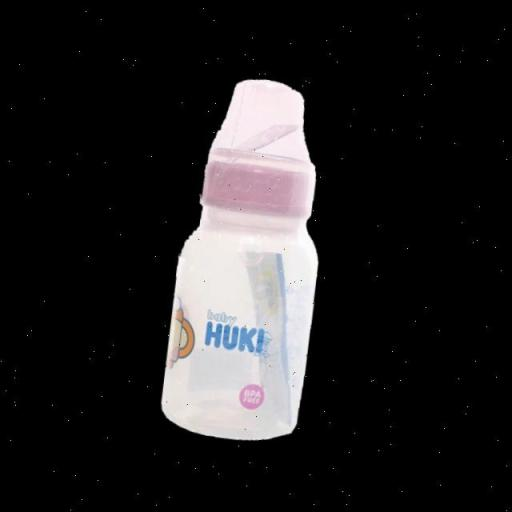plastic: (157, 69, 335, 449)
